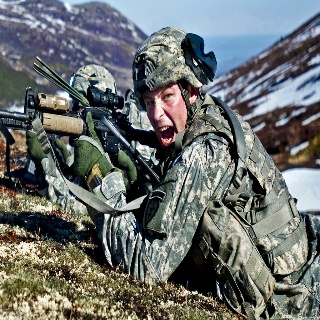rifle: (1, 83, 164, 162)
